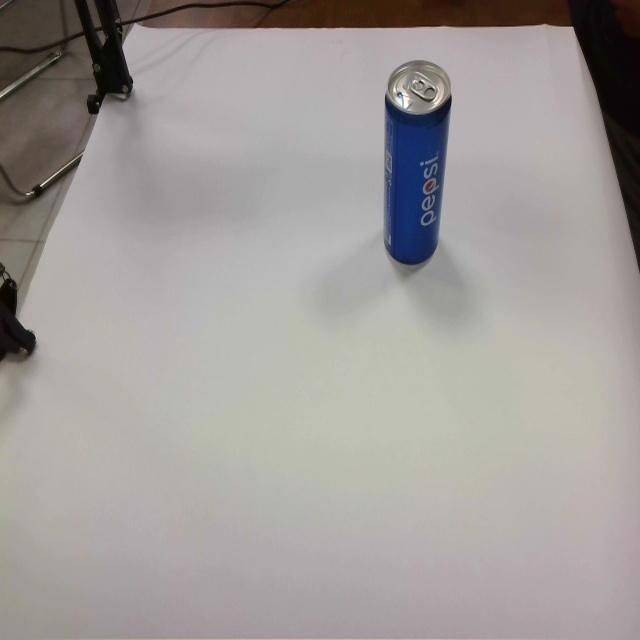debris: (383, 59, 453, 265)
